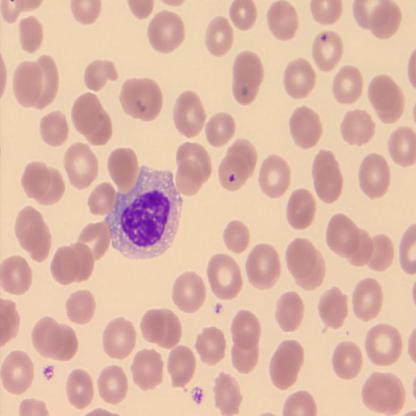Metamyelocyte: (103, 163, 185, 262)
